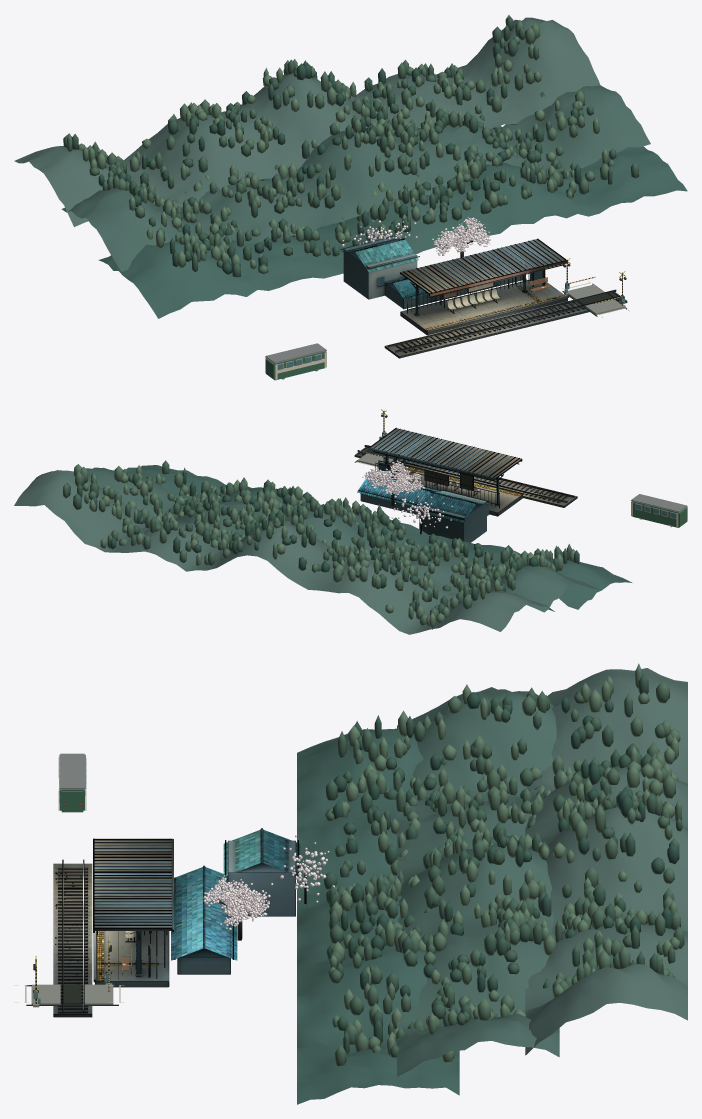
The model's file is hasedera-station.glb.
3 renders of one model, top to bottom at view 1: azimuth 30°, elevation 25°; view 2: azimuth 150°, elevation 25°; view 3: azimuth 270°, elevation 25°, orthographic. The views are drawn at different scales.
Parts seen in each view (by area): view 1: LayeredMountainForest, Station_Baked_Static, TrainCarriage, BlossomCanopy, Crossing_Detail_Crossing approach concrete.001; view 2: LayeredMountainForest, Station_Baked_Static, TrainCarriage, BlossomCanopy, DistantBlossom; view 3: LayeredMountainForest, Station_Baked_Static, BlossomCanopy, TrainCarriage, Crossing_Detail_Crossing approach concrete.001, DistantBlossom, Crossing_Detail_Crossing black.001.
Part boxes in pixels (bbox=[...]): LayeredMountainForest: bbox=[14, 15, 687, 318]; Station_Baked_Static: bbox=[340, 227, 627, 358]; TrainCarriage: bbox=[265, 343, 326, 380]; BlossomCanopy: bbox=[432, 217, 490, 255]; Crossing_Detail_Crossing approach concrete.001: bbox=[564, 285, 625, 314]; LayeredMountainForest: bbox=[14, 460, 632, 634]; Station_Baked_Static: bbox=[354, 427, 577, 542]; TrainCarriage: bbox=[631, 494, 687, 527]; BlossomCanopy: bbox=[362, 460, 424, 495]; DistantBlossom: bbox=[391, 495, 452, 528]; LayeredMountainForest: bbox=[297, 663, 687, 1104]; Station_Baked_Static: bbox=[53, 828, 306, 1017]; BlossomCanopy: bbox=[203, 877, 270, 930]; TrainCarriage: bbox=[58, 753, 86, 812]; Crossing_Detail_Crossing approach concrete.001: bbox=[31, 983, 113, 1007]; DistantBlossom: bbox=[271, 835, 334, 902]; Crossing_Detail_Crossing black.001: bbox=[26, 940, 118, 1005].
Size of the model in its own units: 58 by 11.88 by 47.23.
38 materials, 4 textured.
